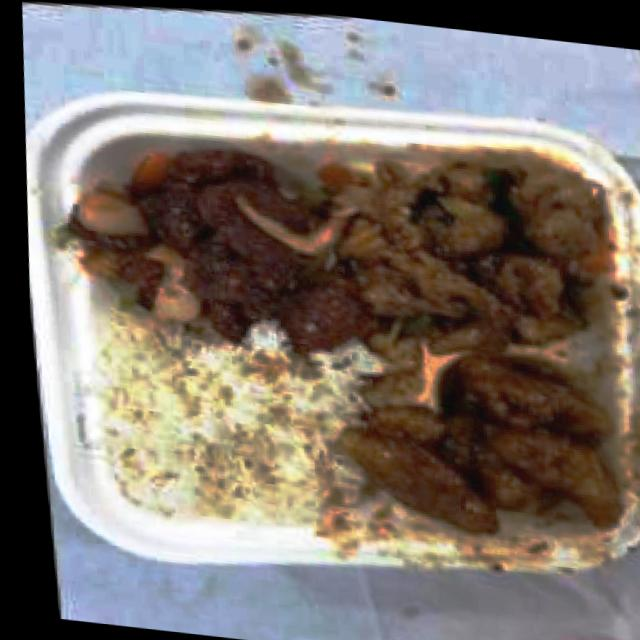Beijing Beef: (64, 134, 373, 352)
Kung Pao Chicken: (354, 160, 621, 352)
rice: (85, 320, 380, 523)
